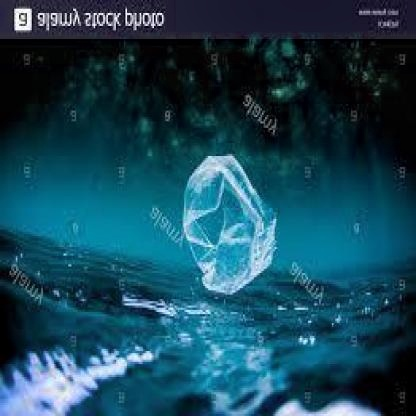pbag: (181, 154, 278, 294)
